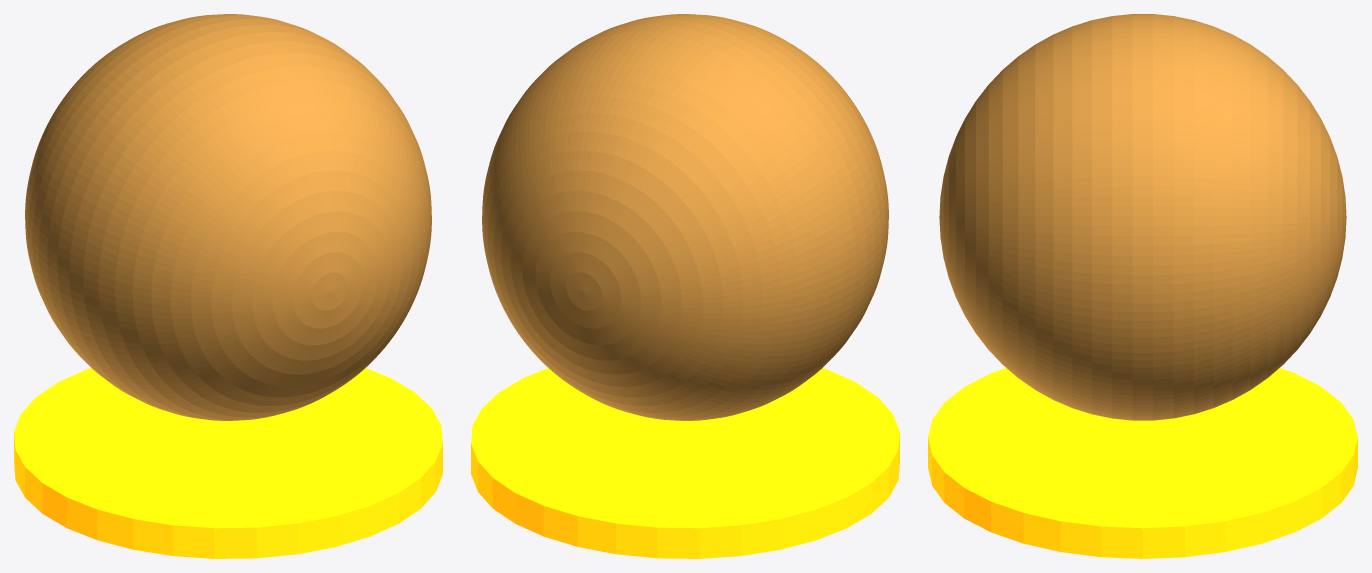
The model's file is fitness_medicine_ball.glb.
3 views of the same model, side by side, from view 1: azimuth 30°, elevation 25°; view 2: azimuth 150°, elevation 25°; view 3: azimuth 270°, elevation 25° (orthographic).
Visible parts, largest first — view 1: 02_17_Popular_Fitness_Medicine_Ball_part_01, 02_17_Popular_Fitness_Medicine_Ball_ROOT_base; view 2: 02_17_Popular_Fitness_Medicine_Ball_part_01, 02_17_Popular_Fitness_Medicine_Ball_ROOT_base; view 3: 02_17_Popular_Fitness_Medicine_Ball_part_01, 02_17_Popular_Fitness_Medicine_Ball_ROOT_base.
Part boxes in pixels (x1,y1,x2,y2): 02_17_Popular_Fitness_Medicine_Ball_part_01: [25, 14, 431, 420]; 02_17_Popular_Fitness_Medicine_Ball_ROOT_base: [14, 368, 442, 558]; 02_17_Popular_Fitness_Medicine_Ball_part_01: [482, 14, 888, 420]; 02_17_Popular_Fitness_Medicine_Ball_ROOT_base: [471, 368, 899, 558]; 02_17_Popular_Fitness_Medicine_Ball_part_01: [939, 14, 1346, 420]; 02_17_Popular_Fitness_Medicine_Ball_ROOT_base: [928, 368, 1357, 558].
Size of the model in its own units: 0.76 by 0.8491 by 0.76.
